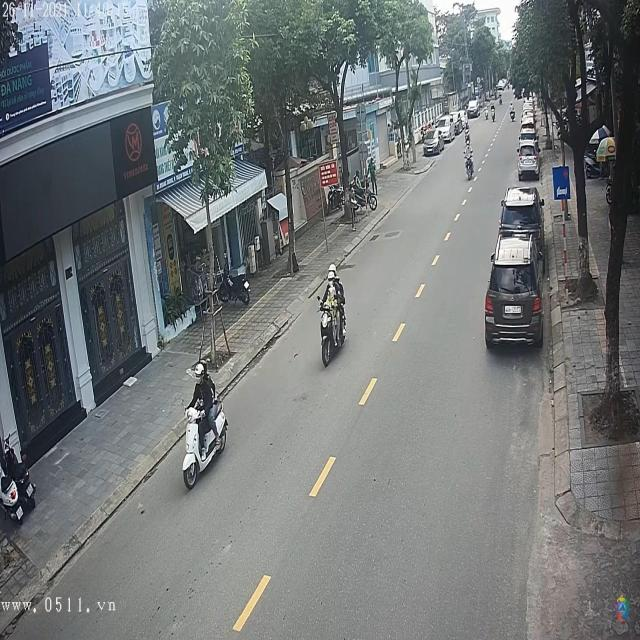car: (485, 230, 544, 350), (516, 147, 539, 180), (424, 127, 447, 155), (468, 99, 481, 118)
motorcycle: (182, 400, 231, 492), (319, 291, 346, 365), (464, 153, 476, 180)
truck: (501, 186, 544, 242)
